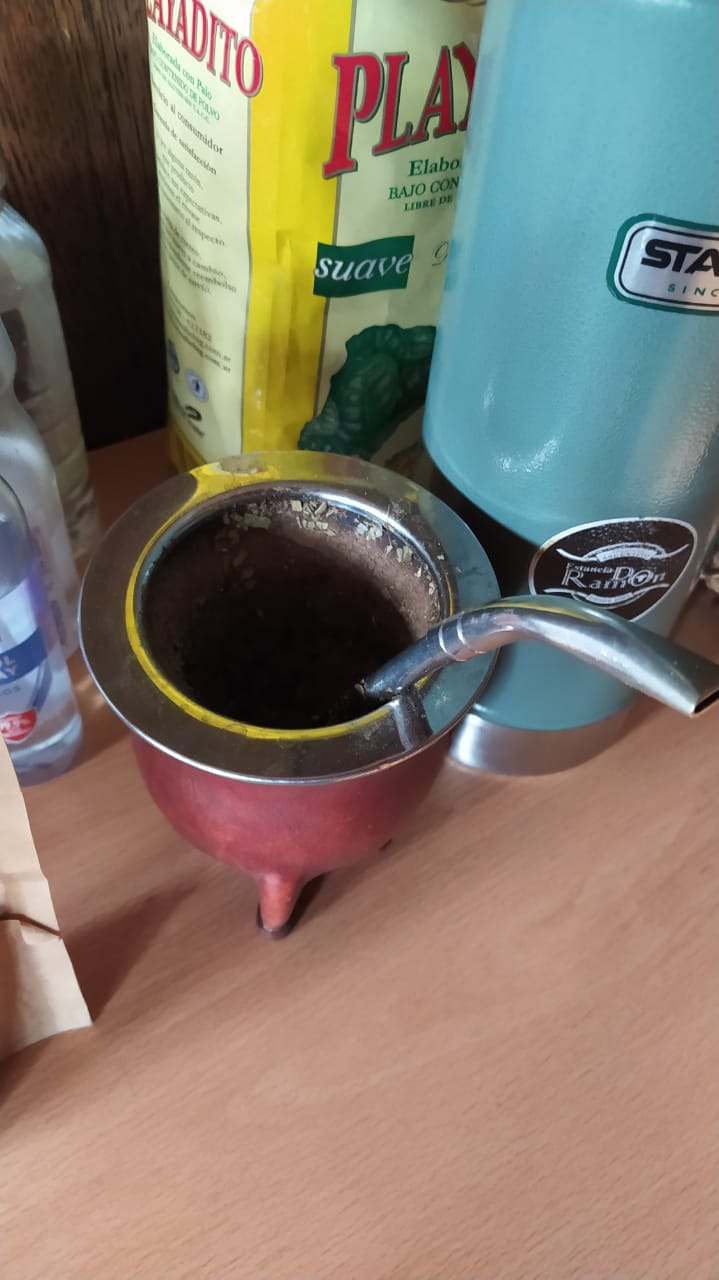madera: (45, 394, 719, 953)
mate: (43, 392, 717, 951)
